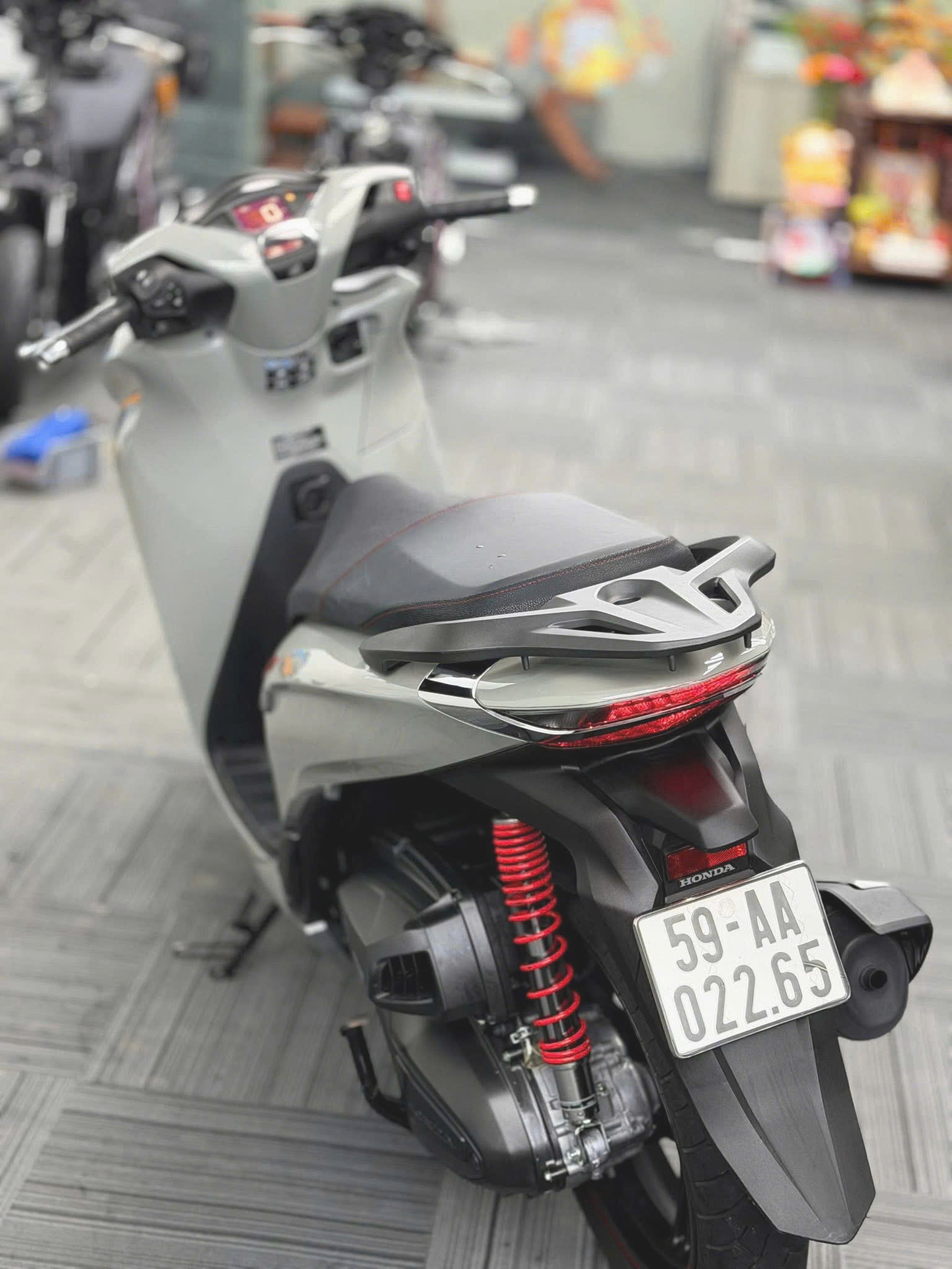Bien-so: (642, 823, 864, 1054)
